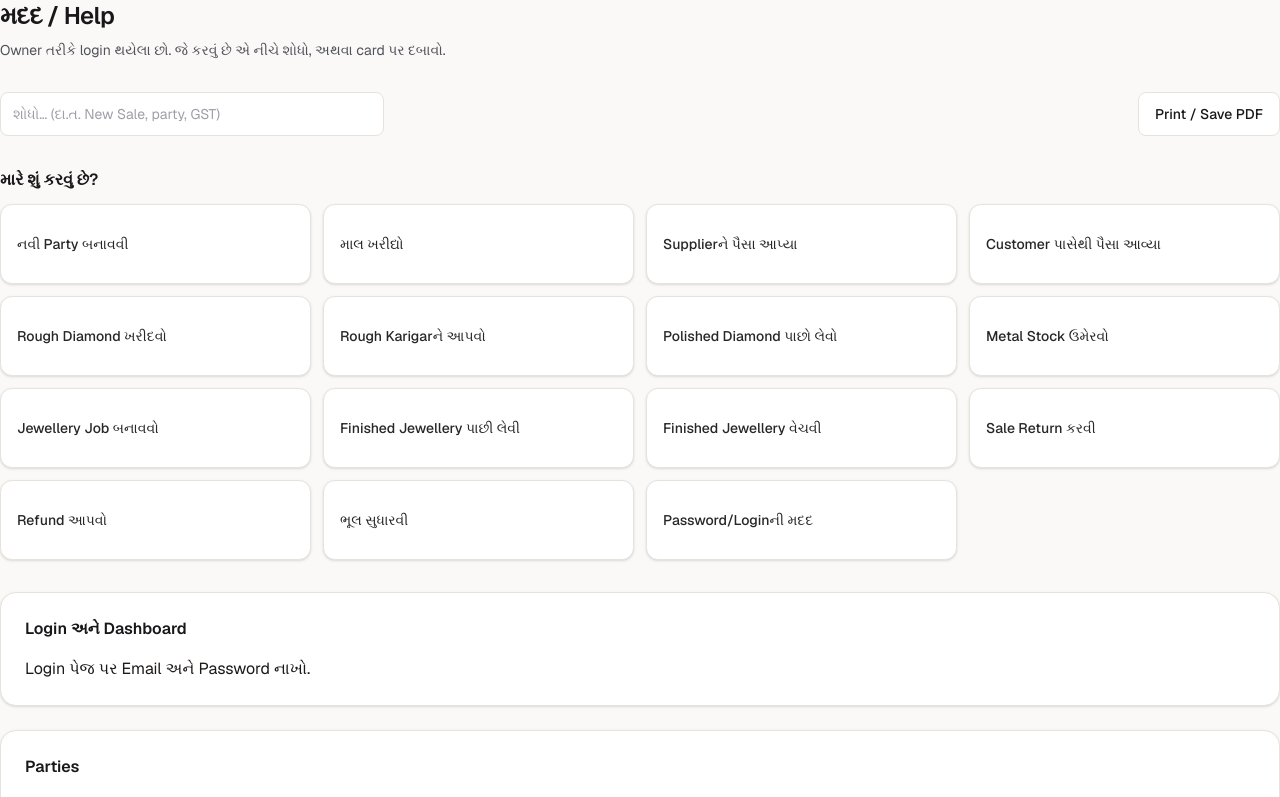
Test case: HelpPageClient › search also matches a Gujarati query term
Type "લોગિન" into the search field with placeholder "શોધો… (દા.ત. New Sale, party, GST)". click: point(192, 114)
box: [0, 92, 384, 136]
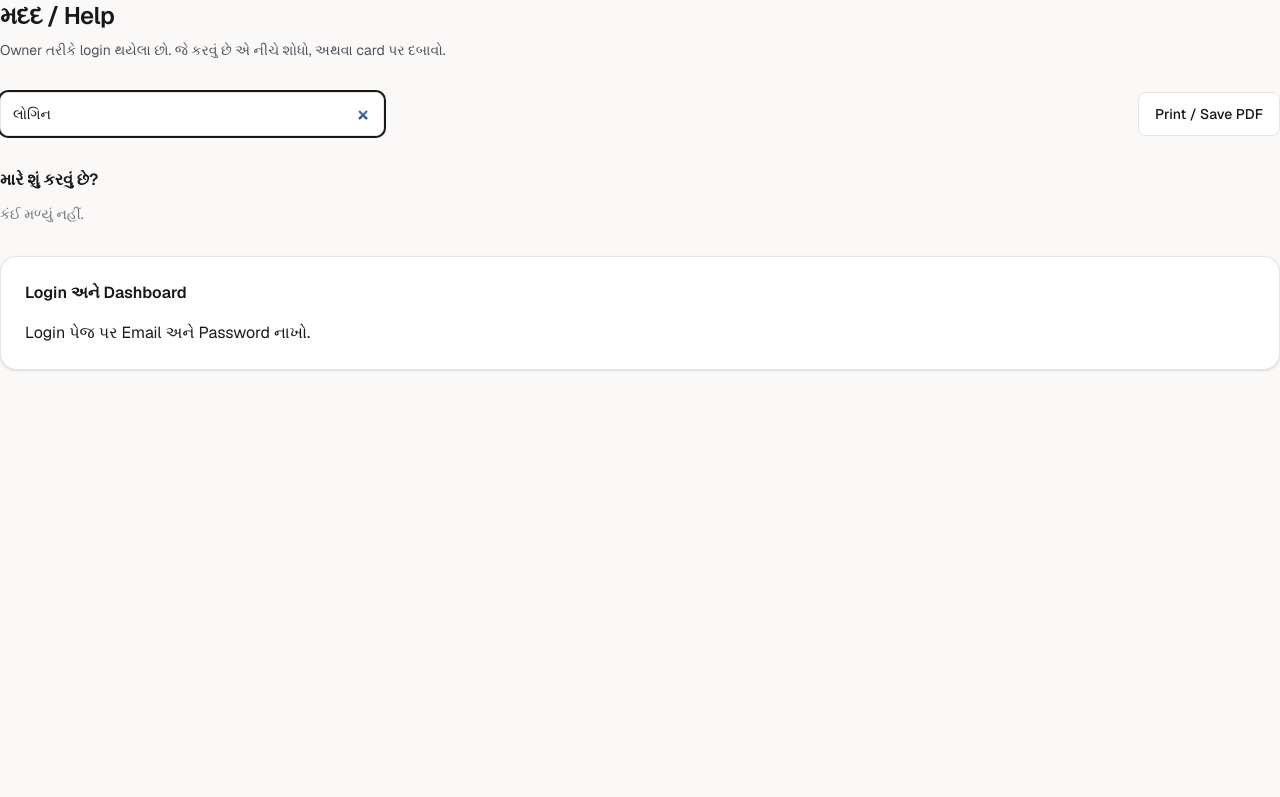
Expected: the heading "Login અને Dashboard" is shown, [25, 282, 187, 303]
Expected: the heading "Parties" is gone
